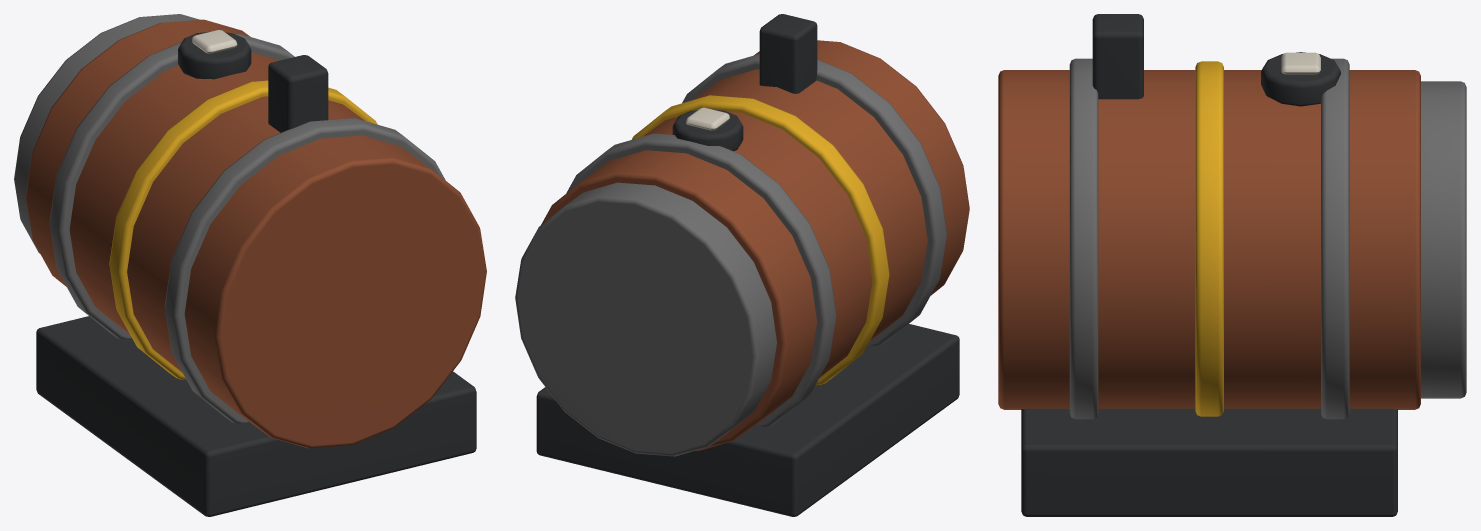
The model's file is s-boiler.glb.
The picture shows the model from 3 angles, left to right: view 1: azimuth 30°, elevation 25°; view 2: azimuth 150°, elevation 25°; view 3: azimuth 270°, elevation 25°; orthographic projection. The views are drawn at different scales.
Visible parts, largest first — view 1: s-boiler; view 2: s-boiler; view 3: s-boiler.
Part boxes in pixels (bbox=[...]): s-boiler: bbox=[14, 14, 486, 516]; s-boiler: bbox=[515, 14, 969, 516]; s-boiler: bbox=[998, 14, 1466, 516].
Size of the model in its own units: 0.64 by 0.82 by 0.82.
